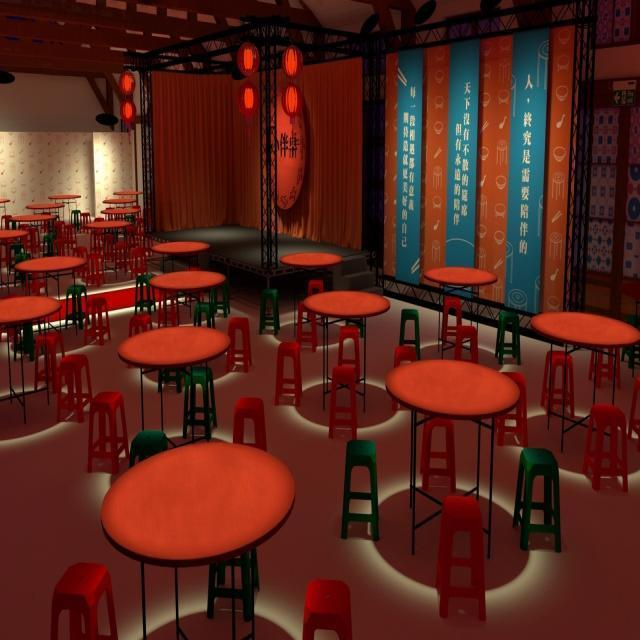table: (96, 417, 297, 616), (368, 341, 518, 506), (524, 294, 634, 448), (129, 323, 240, 419), (421, 247, 498, 350), (300, 289, 390, 367), (153, 262, 235, 320), (268, 233, 347, 285), (27, 239, 93, 298), (6, 286, 69, 345), (158, 223, 217, 281)
